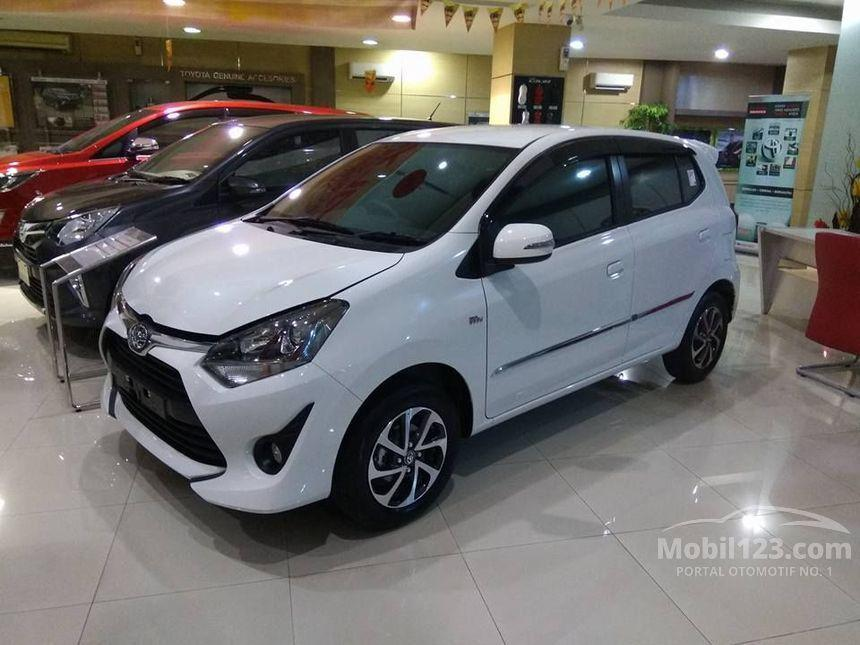mobil: (87, 136, 745, 511)
